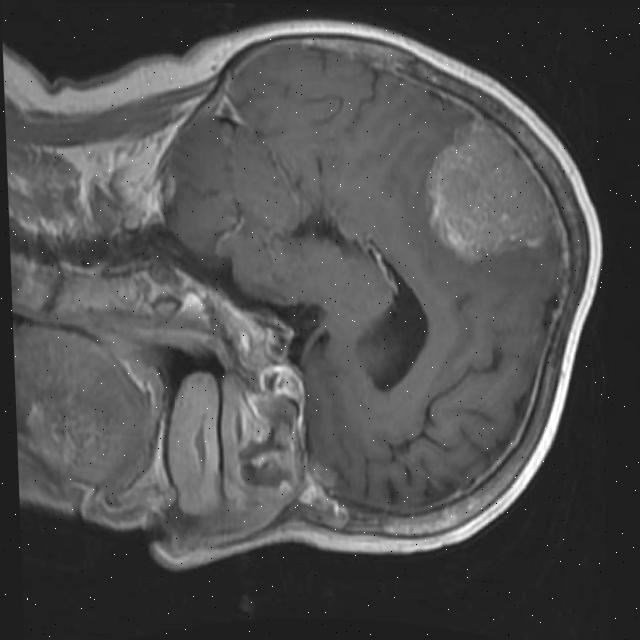Meningioma: (419, 111, 554, 269)
